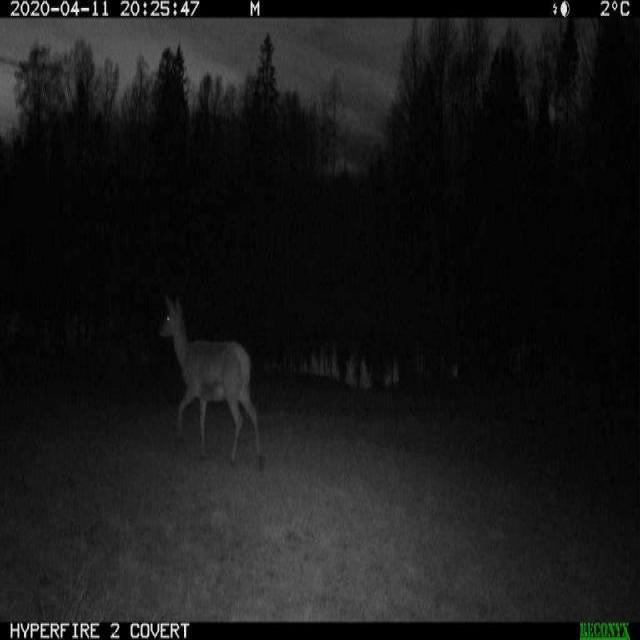deer: (151, 288, 263, 476), (20, 254, 119, 445)
